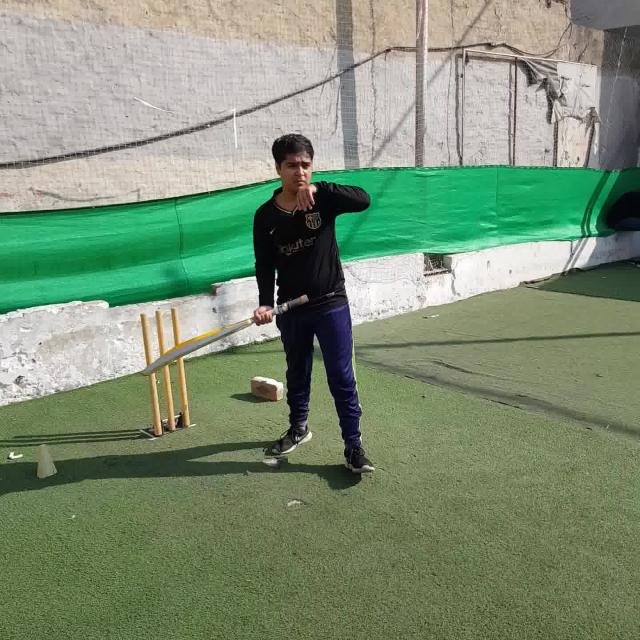bat: (140, 293, 310, 377)
